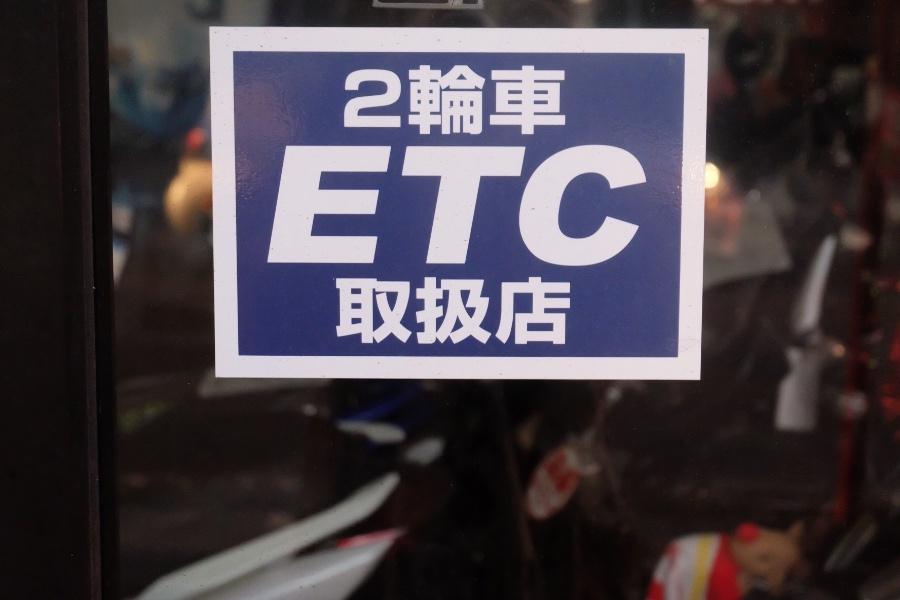text: (289, 144, 304, 268), (305, 144, 320, 268), (321, 144, 336, 268), (337, 144, 352, 268), (353, 144, 368, 268), (369, 144, 384, 268), (385, 144, 400, 268), (401, 144, 416, 268), (417, 144, 432, 268), (433, 144, 448, 268), (449, 144, 464, 268), (465, 144, 480, 268), (481, 144, 496, 268), (497, 144, 512, 268), (513, 144, 528, 268), (529, 144, 544, 268), (545, 144, 560, 268), (561, 144, 576, 268), (577, 144, 592, 268), (593, 144, 608, 268), (609, 144, 624, 268), (625, 144, 640, 268), (641, 144, 651, 268), (353, 63, 368, 138), (369, 63, 384, 138), (385, 63, 400, 138), (401, 63, 416, 138), (417, 63, 432, 138), (433, 63, 448, 138), (449, 63, 464, 138), (465, 63, 480, 138), (481, 63, 496, 138), (497, 63, 512, 138), (513, 63, 528, 138), (529, 63, 544, 138), (545, 63, 560, 138), (337, 277, 352, 346), (353, 277, 368, 346), (369, 277, 384, 346), (385, 277, 400, 346), (401, 277, 416, 346), (417, 277, 432, 346), (433, 277, 448, 346), (449, 277, 464, 346), (465, 277, 480, 346), (481, 277, 496, 346), (497, 277, 512, 346), (513, 277, 528, 346), (529, 277, 544, 346), (545, 277, 560, 346), (561, 277, 573, 346), (342, 63, 352, 138), (561, 63, 567, 138), (285, 144, 288, 268), (334, 277, 336, 346)
